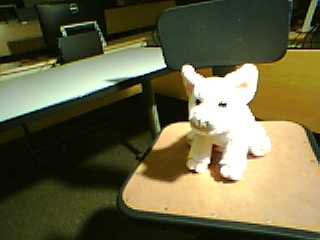piggy: (180, 63, 273, 182)
